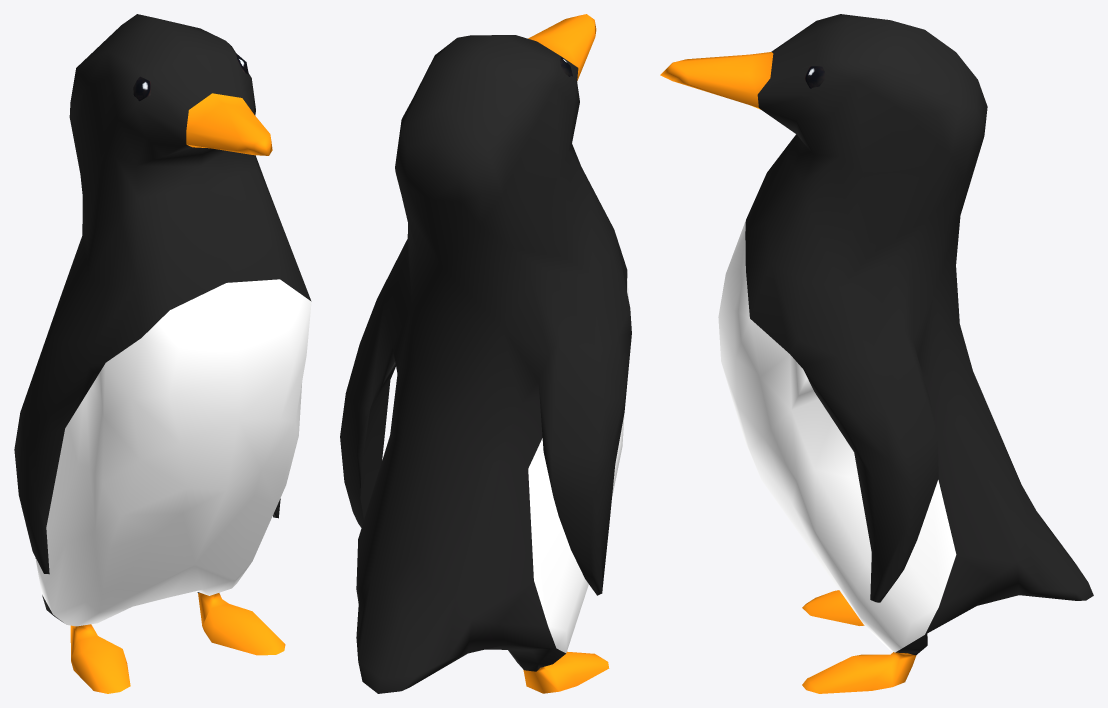
File: Penguin.glb
3 renders of one model, left to right at view 1: azimuth 30°, elevation 25°; view 2: azimuth 150°, elevation 25°; view 3: azimuth 270°, elevation 25°, orthographic.
Parts seen in each view (by area): view 1: Penguin; view 2: Penguin; view 3: Penguin.
Boxes of the visible parts, <box> form: Penguin: <box>14,14,311,693</box>; Penguin: <box>340,14,631,693</box>; Penguin: <box>660,14,1093,693</box>.
Size of what is drawn, in the model's own units: 0.4483 by 1.01 by 0.6359.
1 material, 1 textured.
